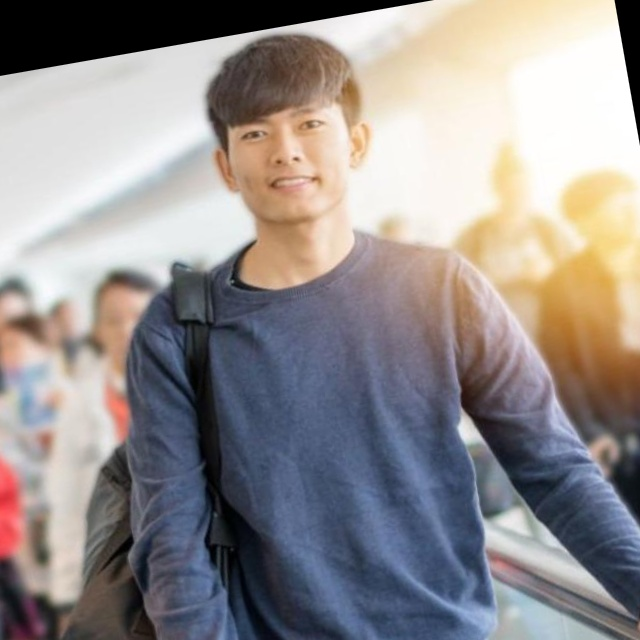Sin_Casco_Mascarrilla: (193, 20, 385, 237)
Sin_Chaleco: (115, 205, 549, 640)
